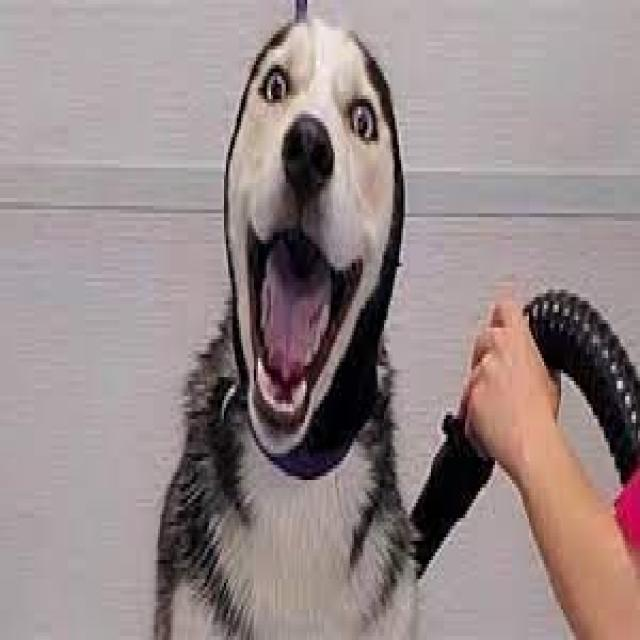dog: (144, 14, 436, 636)
